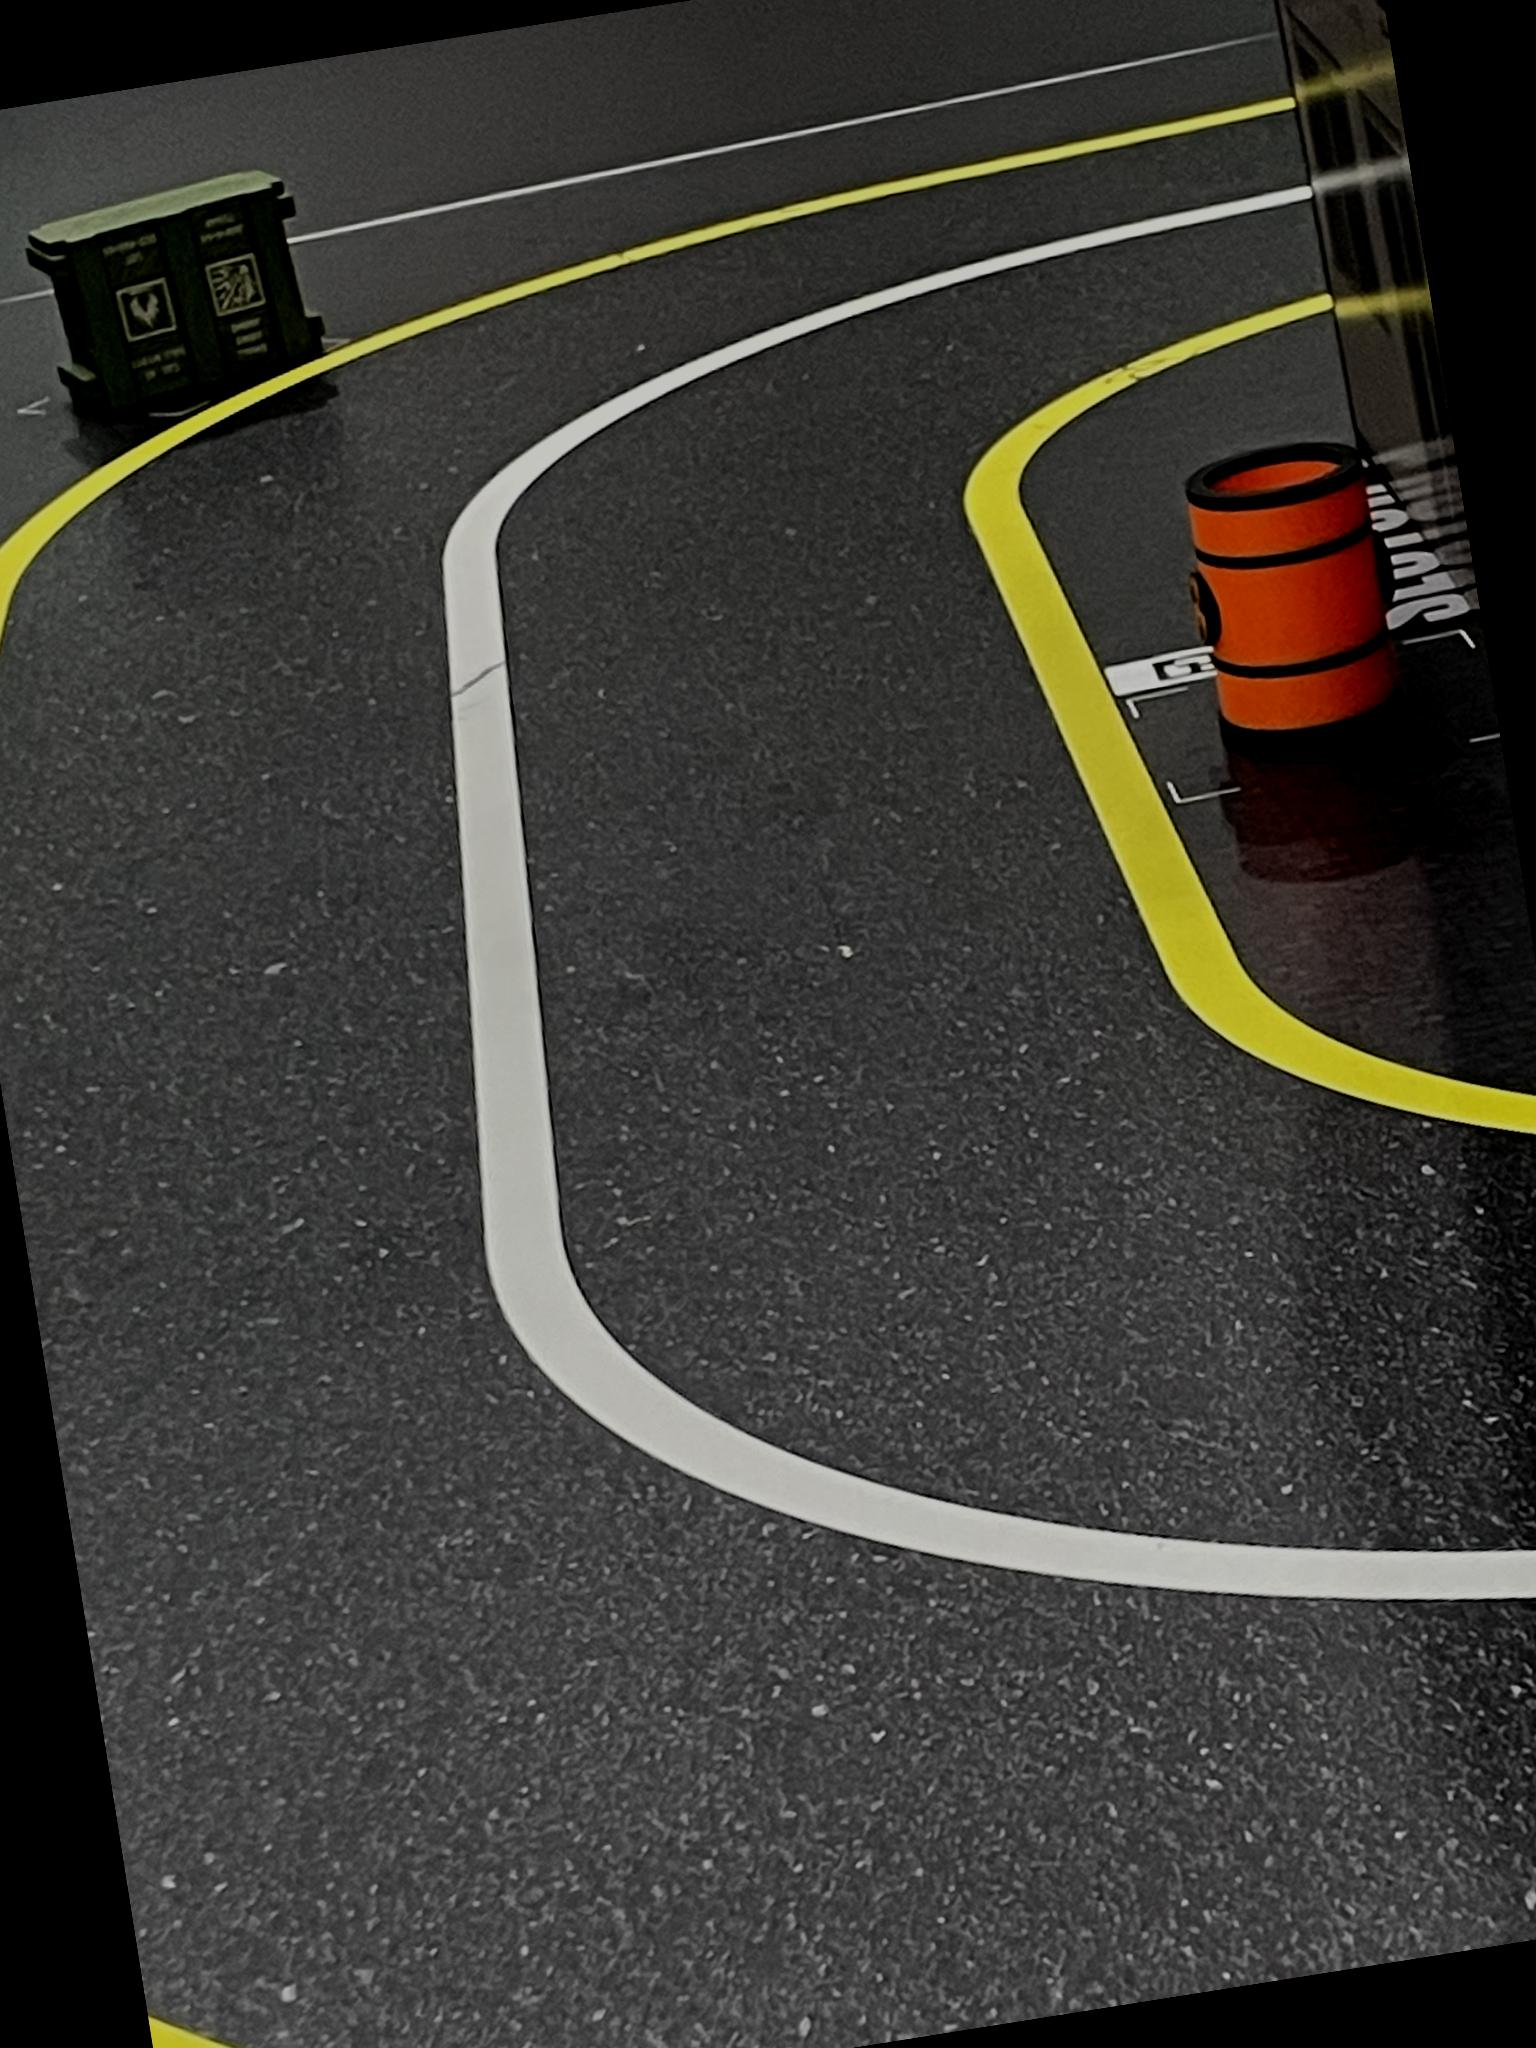Box: (5, 160, 336, 429)
Hazmat: (1167, 432, 1421, 758)
